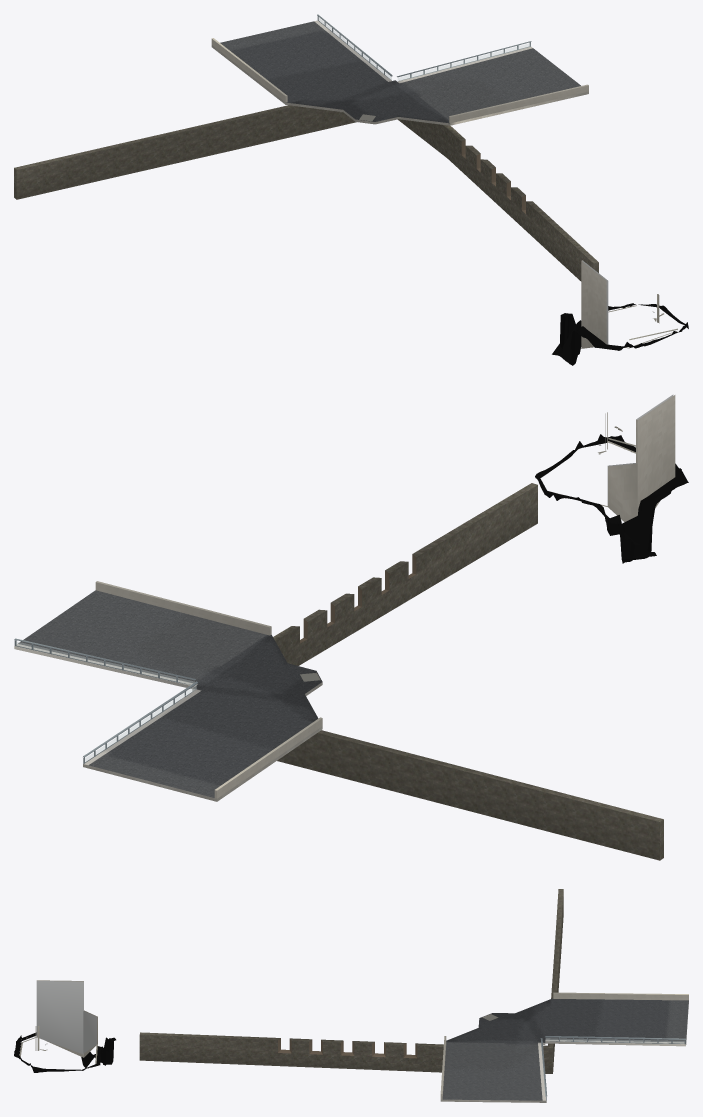
File: site.glb
3 renders of one model, top to bottom at view 1: azimuth 30°, elevation 25°; view 2: azimuth 150°, elevation 25°; view 3: azimuth 270°, elevation 25°, orthographic. The views are drawn at different scales.
Visible parts, largest first — view 1: site/floors, site/walls, site/glass; view 2: site/floors, site/walls, site/glass; view 3: site/floors, site/walls, site/glass.
Boxes of the visible parts, left/top/right/bottom form: site/floors: left=211, top=14, right=688, bottom=365; site/walls: left=14, top=39, right=608, bottom=348; site/glass: left=319, top=18, right=529, bottom=80; site/floors: left=14, top=412, right=688, bottom=801; site/walls: left=95, top=394, right=675, bottom=860; site/glass: left=16, top=641, right=196, bottom=761; site/floors: left=14, top=992, right=688, bottom=1102; site/walls: left=36, top=889, right=688, bottom=1099; site/glass: left=546, top=1038, right=684, bottom=1043.
Bounding box in the file's own units: 88.74 × 17.41 × 117.
13 materials, 4 textured.
